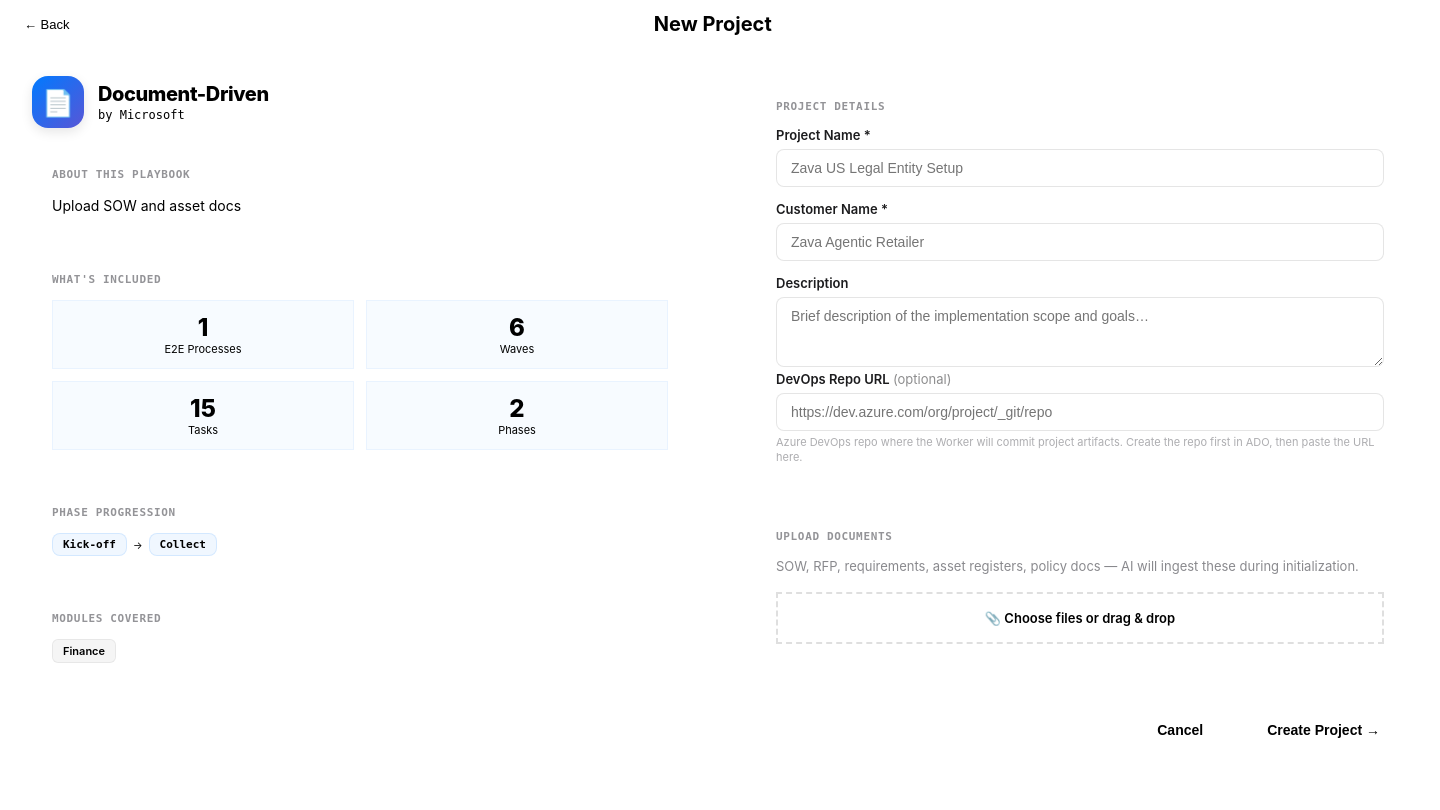
Test: SetupPage › create button is enabled when required fields are filled
Type "My Project" into the field with test id "input-project-name" at x=1080, y=168, box 776,149 -> 1384,187
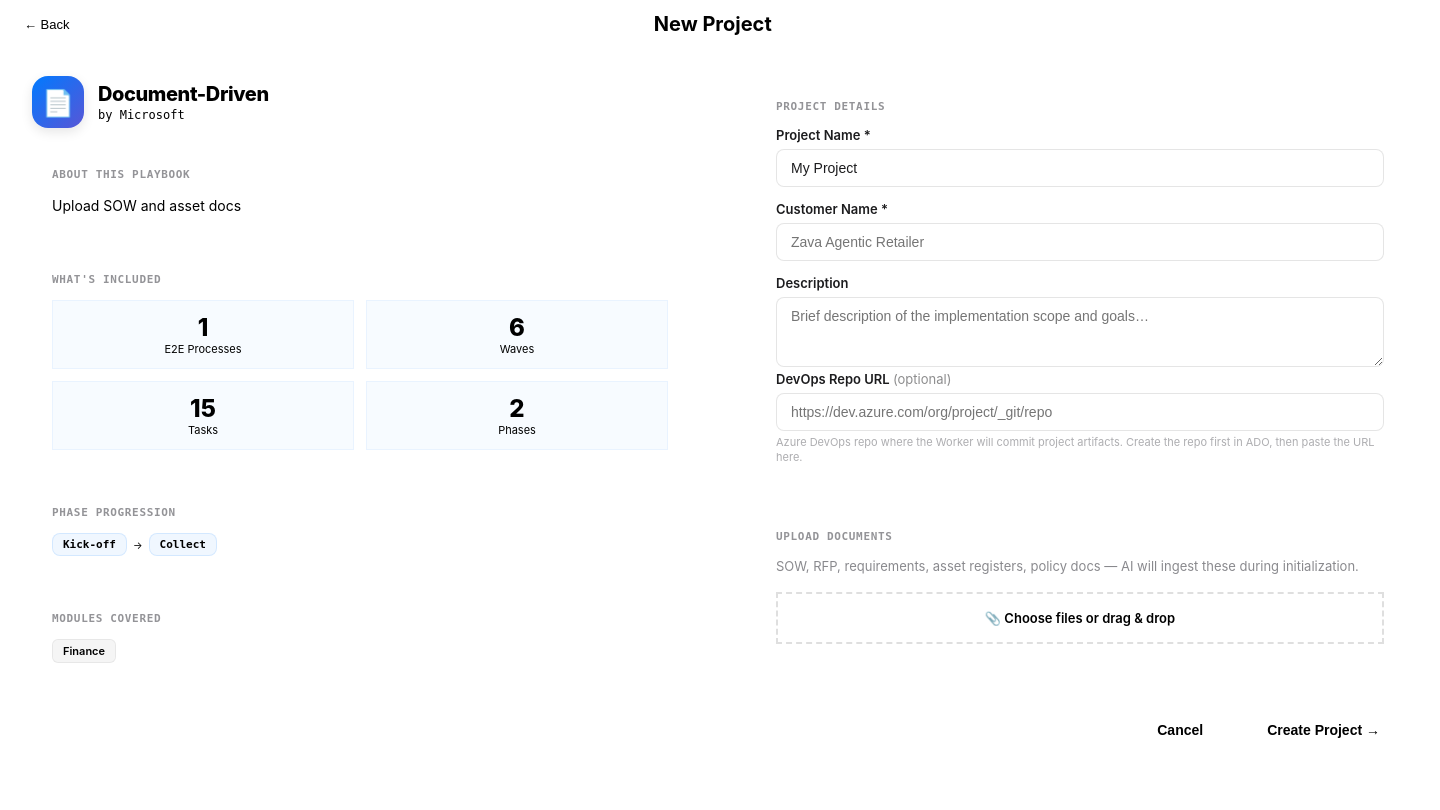
Type "Contoso" into the field with test id "input-customer-name" at x=1080, y=242, box 776,223 -> 1384,261
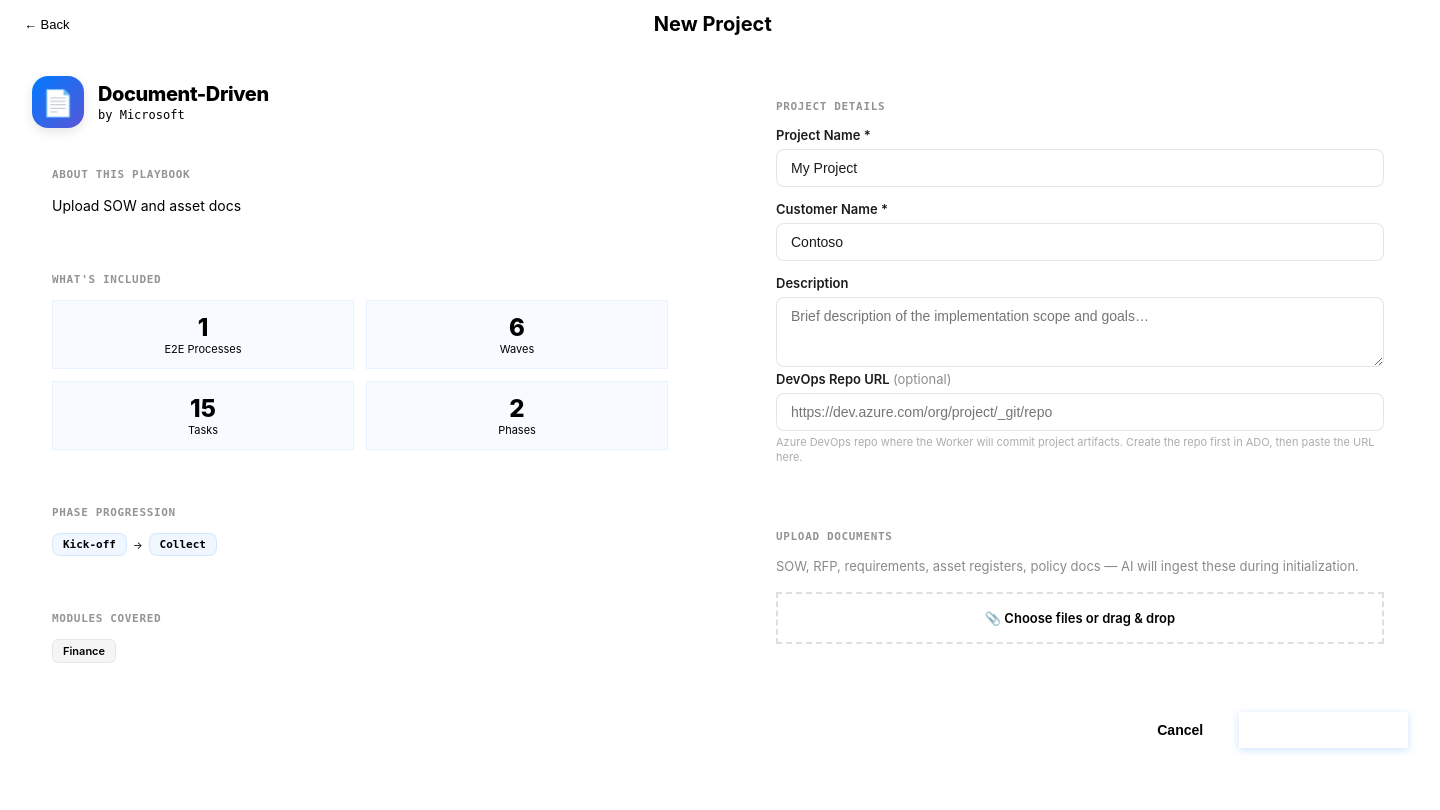
Expected: the button with test id "create-project-btn" is enabled, 1239,712 -> 1408,748
